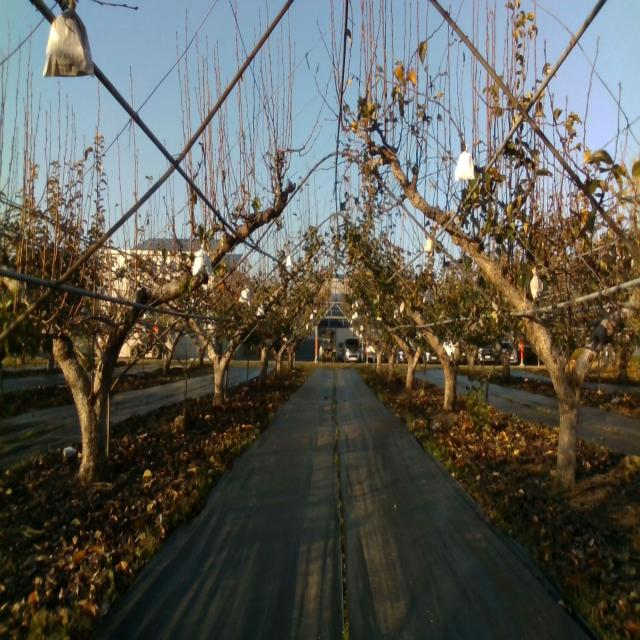pearbags: (42, 0, 95, 78), (192, 244, 214, 277), (454, 146, 473, 179), (530, 267, 543, 300), (238, 284, 251, 306)
